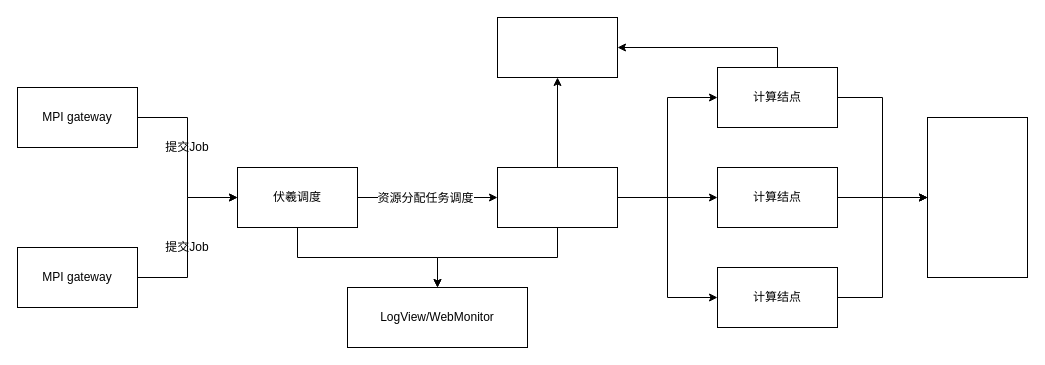
This 1045x365 diagram has some shape labels left out. The shapes that lost their labels are listed below. From the top down, each one's box as (x1, y1, x2, y2) in pixels, then its label:
(496, 16, 618, 78): 女娲
(496, 166, 618, 228): 计算结点Job Master
(926, 116, 1028, 278): 盘古
